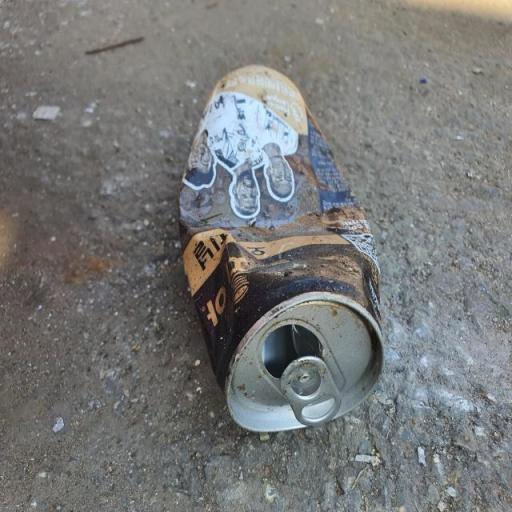metal: (149, 42, 409, 460)
